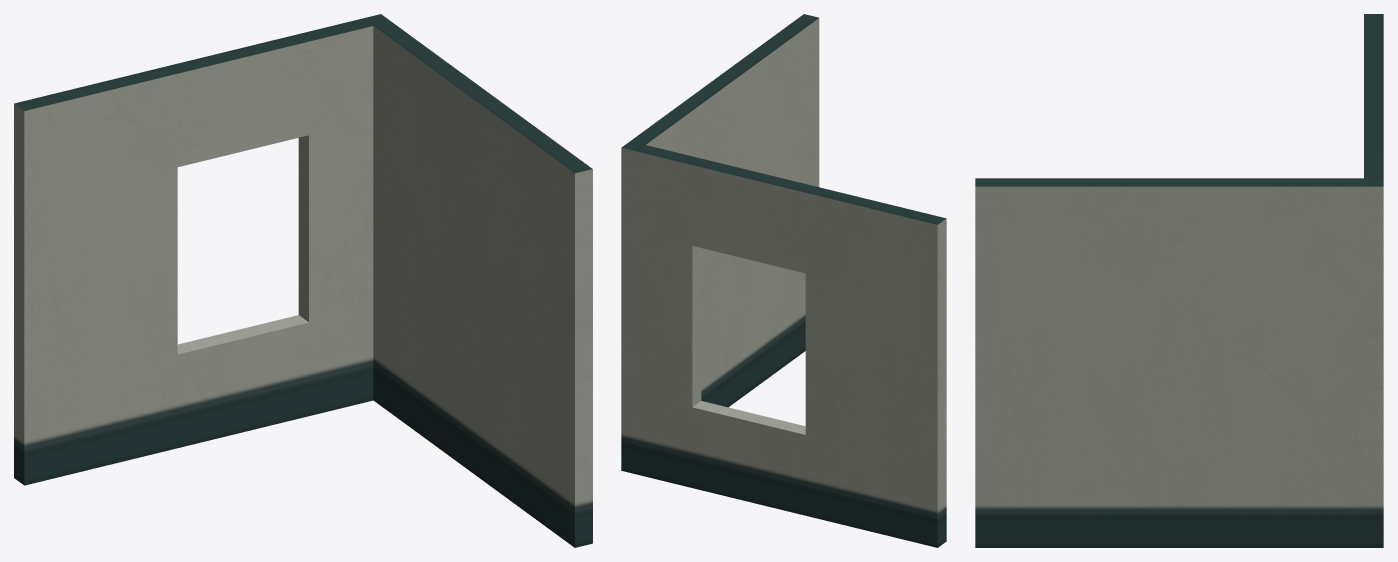
File: Wall_5_Corner_D.fbx
The picture shows the model from 3 angles, left to right: view 1: azimuth 30°, elevation 25°; view 2: azimuth 150°, elevation 25°; view 3: azimuth 270°, elevation 25°; orthographic projection. The views are drawn at different scales.
Parts seen in each view (by area): view 1: polySurface34; view 2: polySurface34; view 3: polySurface34.
Boxes of the visible parts, left/top/right/bottom form: polySurface34: left=14, top=14, right=592, bottom=547; polySurface34: left=621, top=14, right=946, bottom=547; polySurface34: left=975, top=14, right=1383, bottom=547.
Size of the model in its own units: 4.1 by 4 by 4.1.
